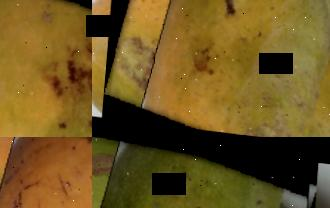PartiallyRipe: (107, 0, 330, 137), (0, 0, 92, 137)
Ripe: (0, 137, 92, 208)
Unripe: (92, 137, 312, 208)
